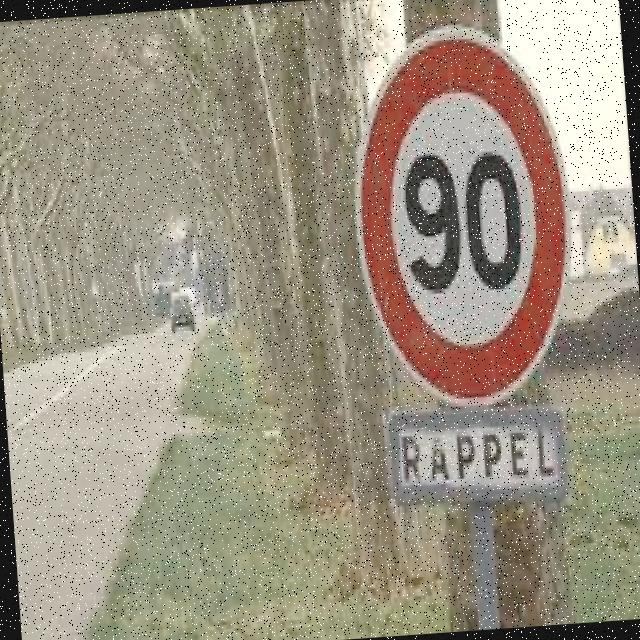Ograniczenie predkosci do 90: (352, 21, 578, 414)
